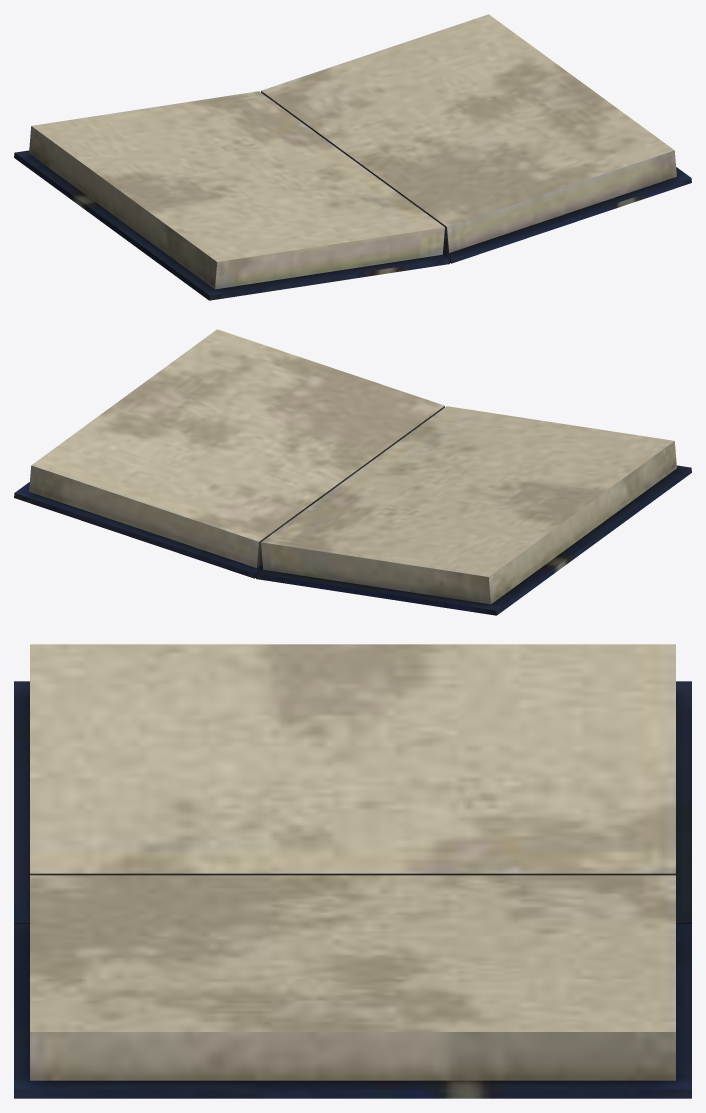
Rendered from book_open_lod1_web.glb.
3 renders of one model, top to bottom at view 1: azimuth 30°, elevation 25°; view 2: azimuth 150°, elevation 25°; view 3: azimuth 270°, elevation 25°, orthographic. The views are drawn at different scales.
Parts seen in each view (by area): view 1: BookOpen_Body; view 2: BookOpen_Body; view 3: BookOpen_Body.
Part boxes in pixels (x1,y1,x2,y2): BookOpen_Body: [14, 14, 691, 300]; BookOpen_Body: [14, 329, 691, 615]; BookOpen_Body: [14, 644, 691, 1098].
Bounding box in the file's own units: 0.2997 × 0.0322 × 0.21.
Materials: 1 (1 with a texture image).
